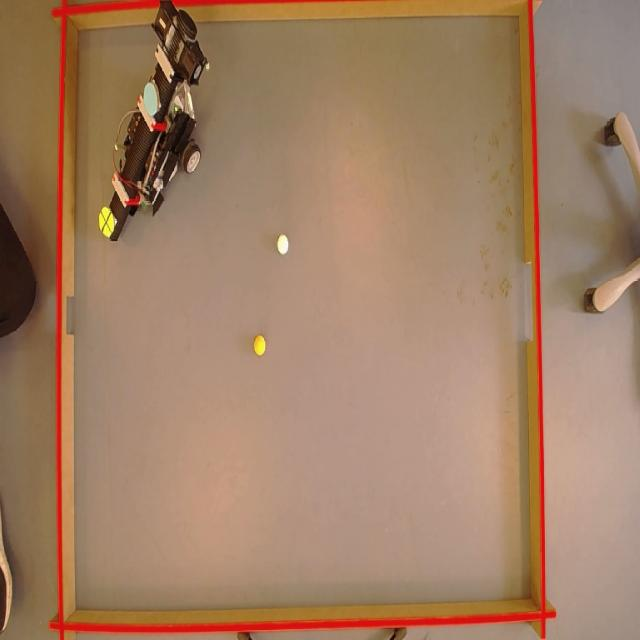orange: (254, 335, 268, 356)
robot: (103, 3, 208, 251)
robot-front: (99, 206, 114, 237)
robot-rear: (141, 83, 159, 113)
white: (275, 233, 289, 255)
